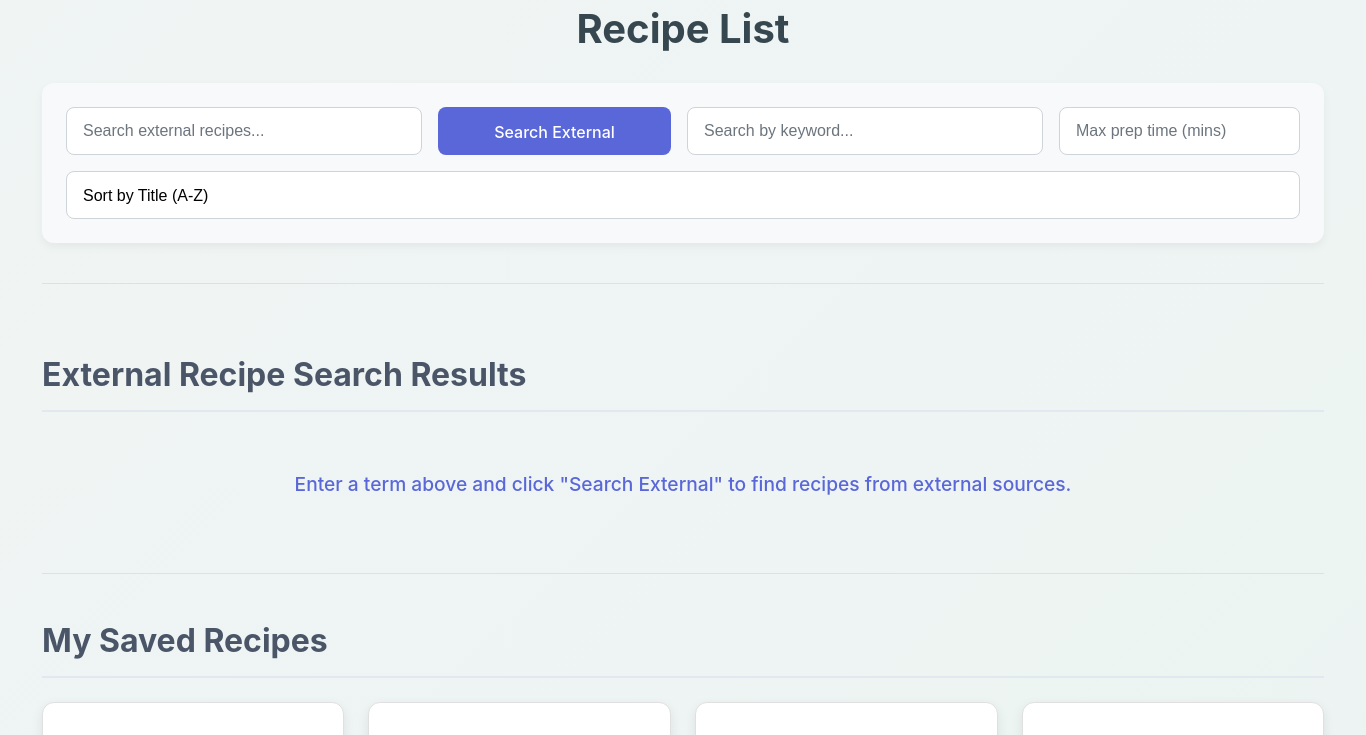
it: RecipeList Component - Search and Filtering › filters by max preparation time
Step 1. Type "30" into the number field with placeholder "Max prep time (mins)" → (1180, 131), box [1059, 107, 1300, 155]
(page scrolled)
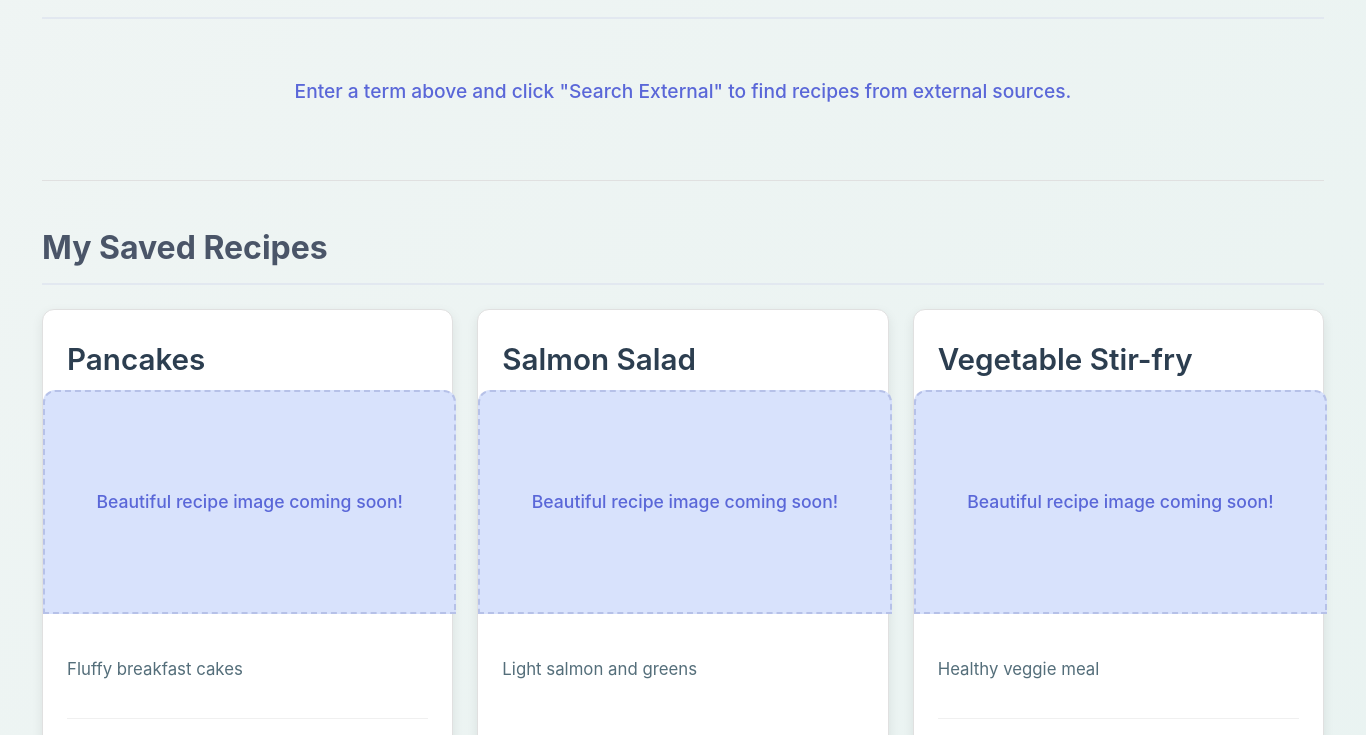
expect the heading "Salmon Salad" is shown: met, box [502, 334, 864, 394]
expect the heading "Vegetable Stir-fry" is shown: met, box [938, 334, 1299, 394]
